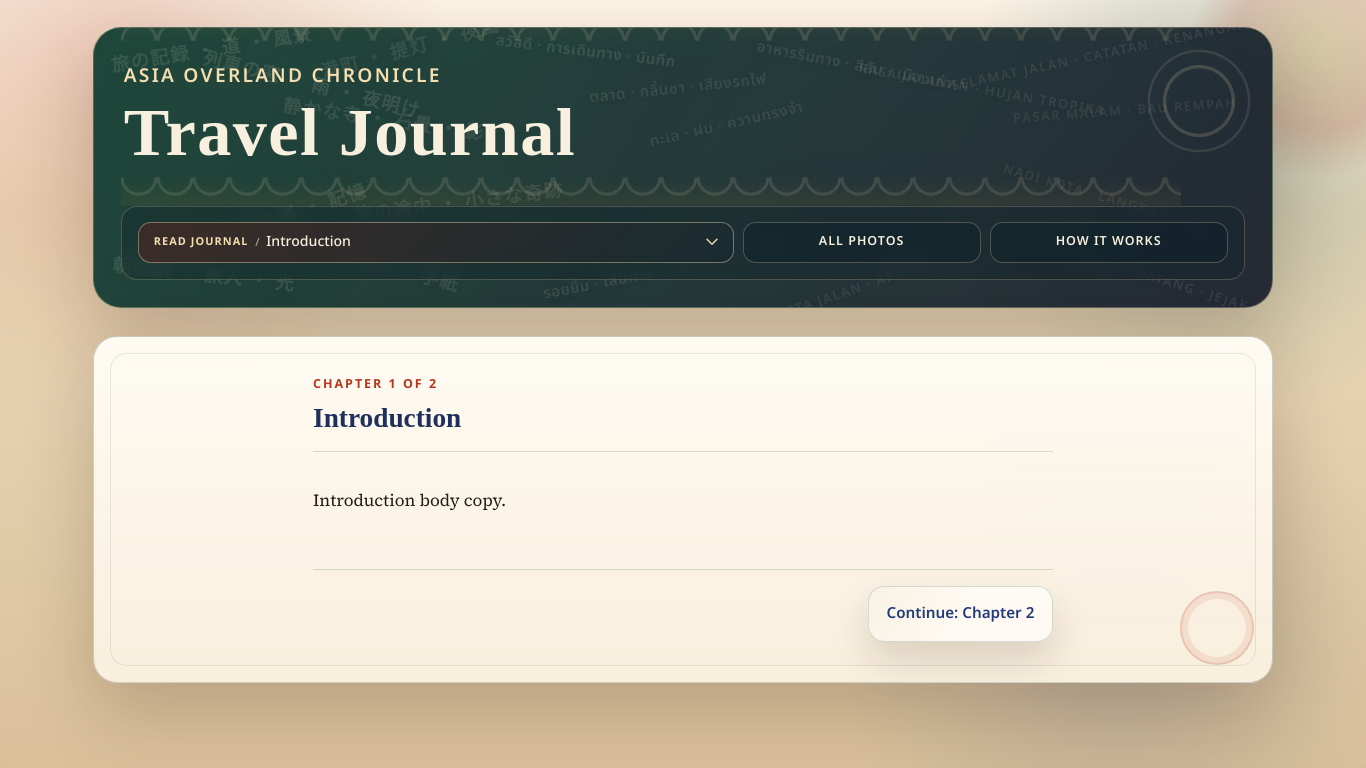
Test: App › navigates to gallery when hero button is clicked
The width and height of the screenshot is (1366, 768).
Expected: the text "Chapter 1 of 2" is shown, 313,375 -> 438,394
Click the button "All Photos". click: [862, 242]
box: 742,222 -> 981,263
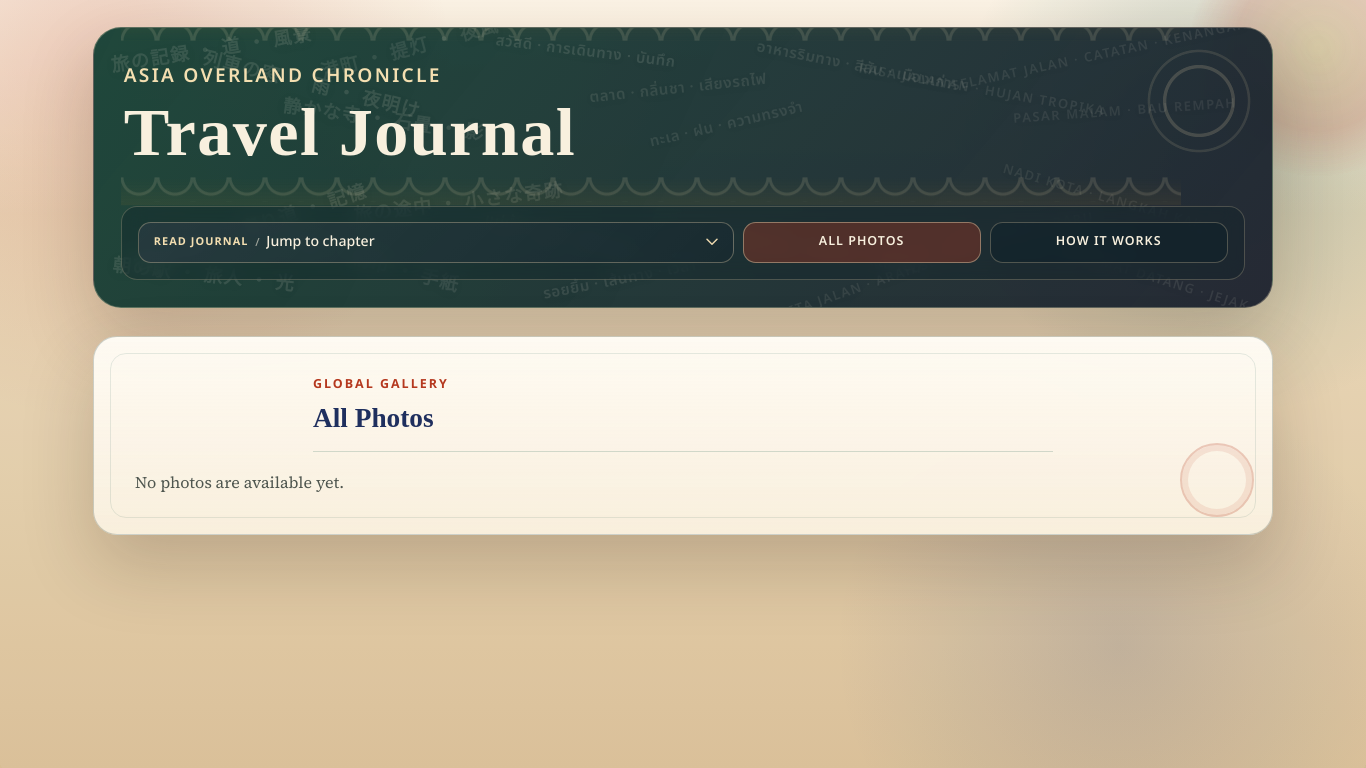
Result: the heading "All Photos" is shown at 313,403 -> 434,433
